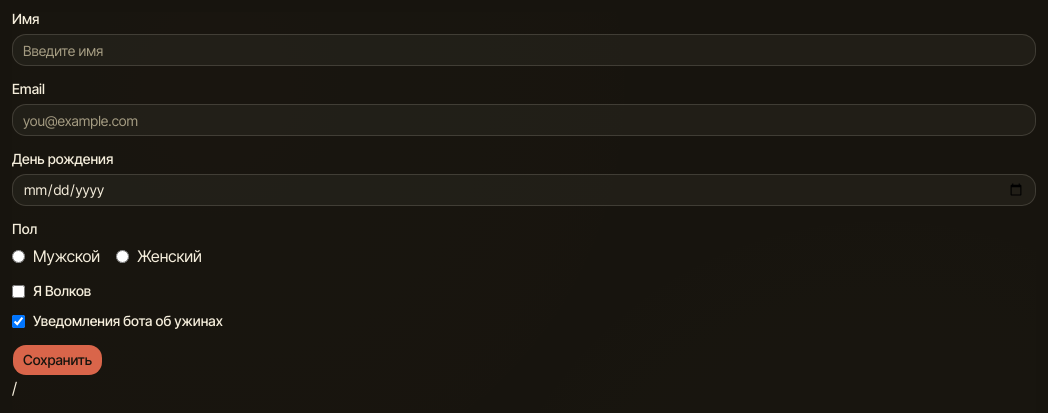
Scenario: ProfileForm › сабмит шлёт PATCH с нормализованными данными и показывает 'Сохранено'
Type "  Ник  " into the field labelled "Имя" at (524, 50), box [12,34,1036,66]
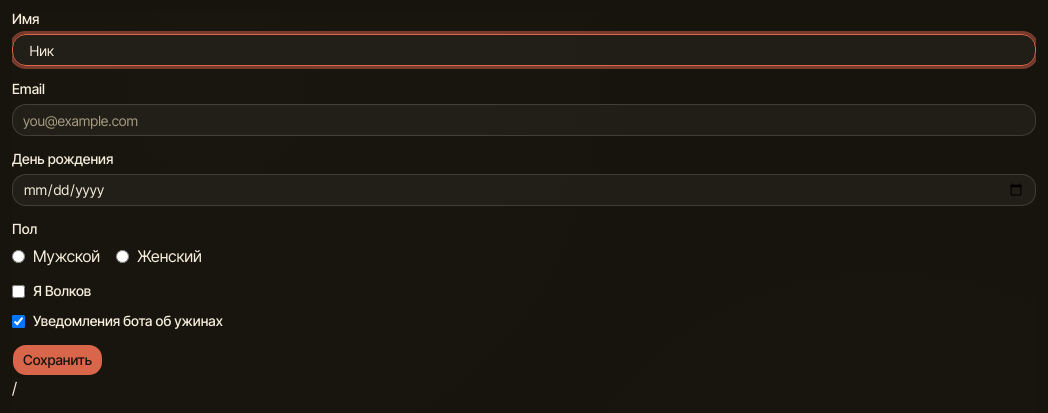
Type "1990-05-01" into the date field labelled "День рождения" at (524, 190), box [12,174,1036,206]
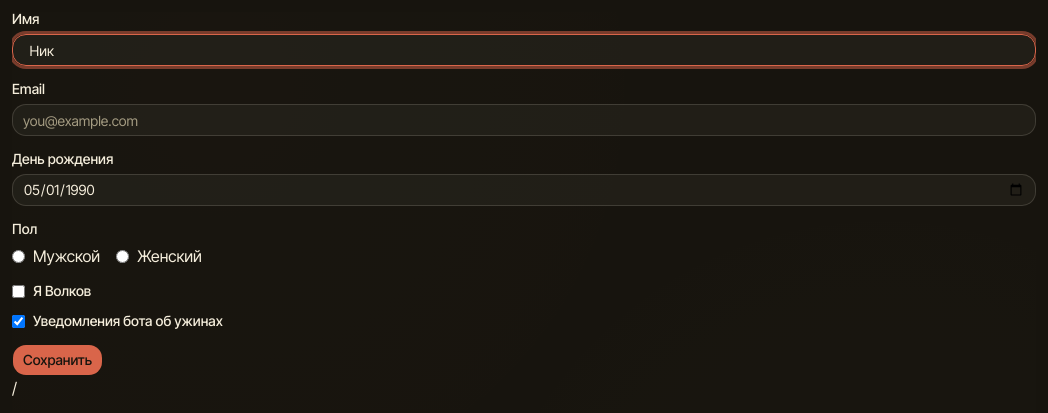
Clear the date field labelled "День рождения" at (524, 190), box [12,174,1036,206]
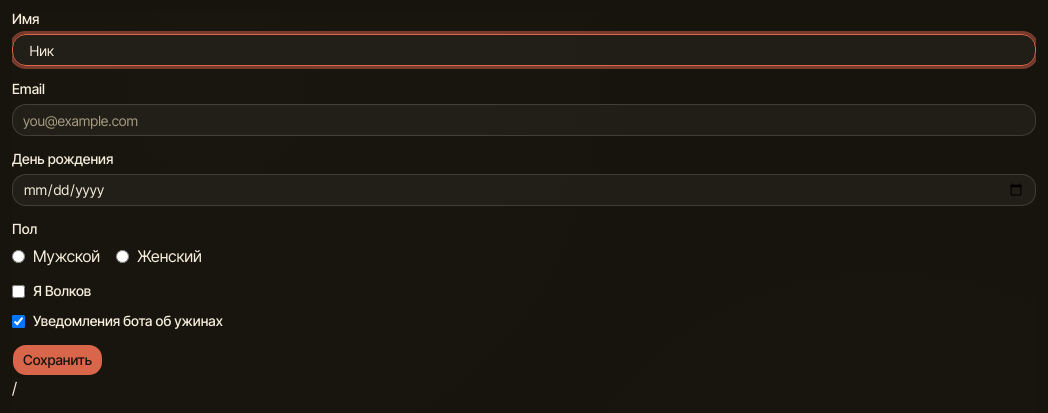
Click the radio button labelled "Мужской" at (18, 256), box [12,250,25,262]
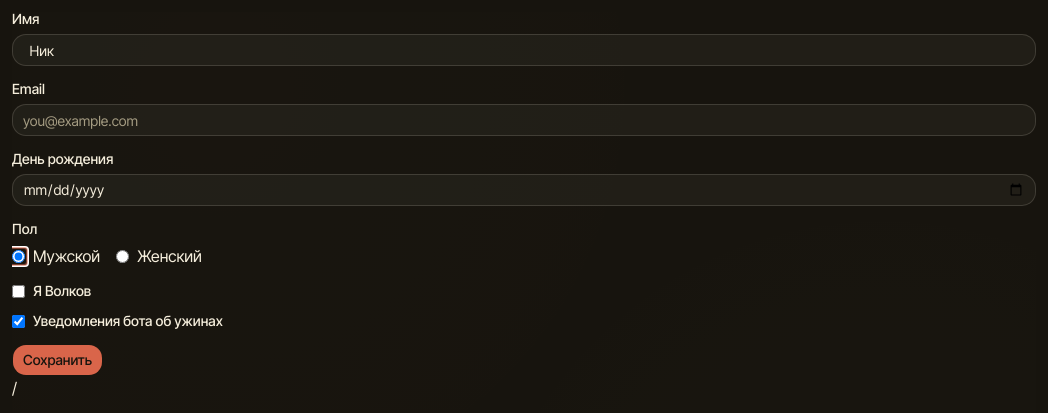
Click the checkbox labelled "Я Волков" at (18, 291), box [12,284,25,298]
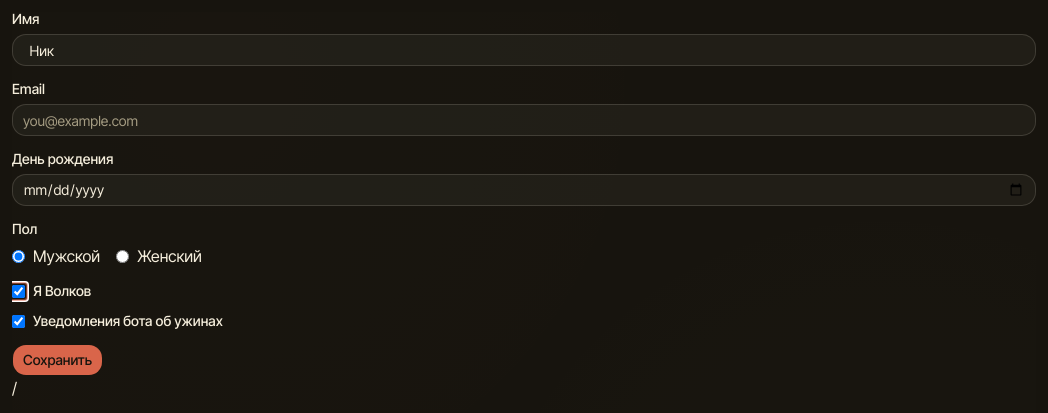
Click the button "Сохранить" at (58, 360), box [12,344,103,376]
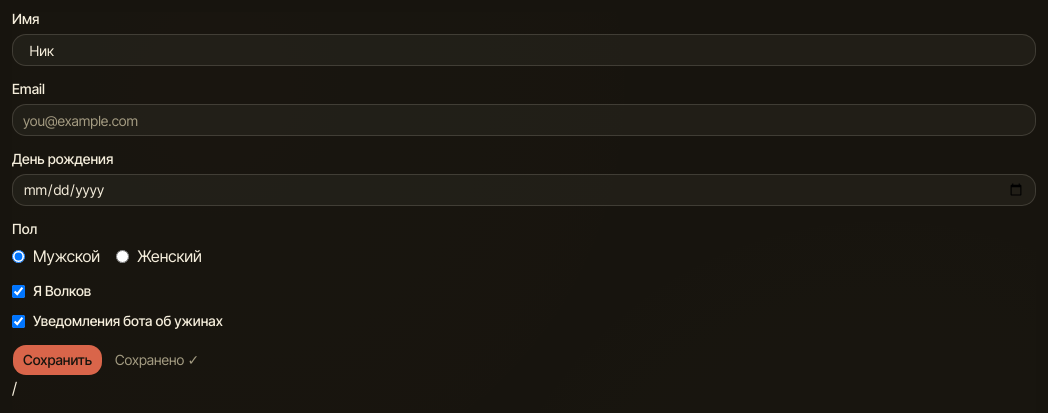
Now the text "Сохранено ✓" is shown, box [115,350,199,370]
